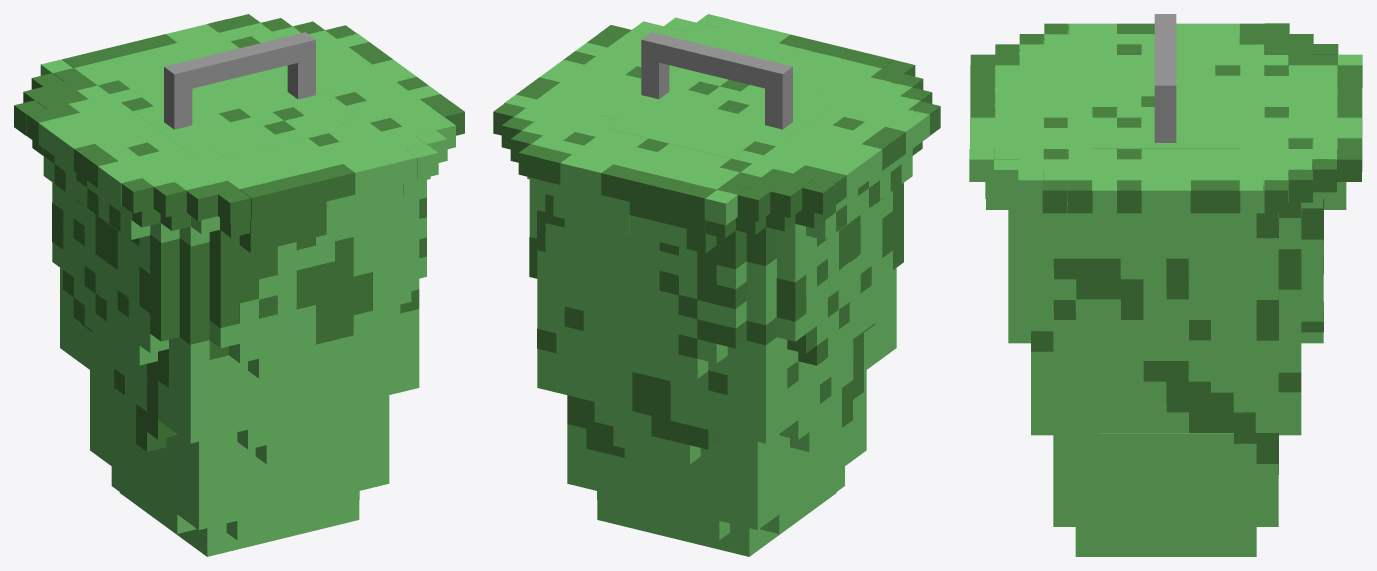
The model's file is litty_voxel.glb.
The picture shows the model from 3 angles, left to right: view 1: azimuth 30°, elevation 25°; view 2: azimuth 150°, elevation 25°; view 3: azimuth 270°, elevation 25°; orthographic projection. The views are drawn at different scales.
Parts seen in each view (by area): view 1: Cube.622; view 2: Cube.622; view 3: Cube.622.
Boxes of the visible parts, box(x1,y1,x2,y2) form: Cube.622: box(14, 14, 464, 556); Cube.622: box(493, 14, 940, 556); Cube.622: box(969, 14, 1362, 556).
Size of the model in its own units: 12.7 by 16.59 by 12.61.
